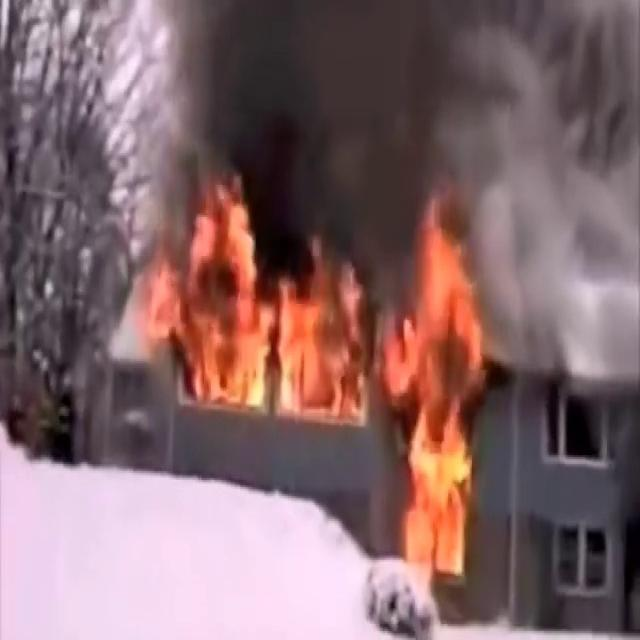Fire: (132, 170, 380, 420), (386, 198, 484, 560)
Smoke: (127, 0, 636, 265)
